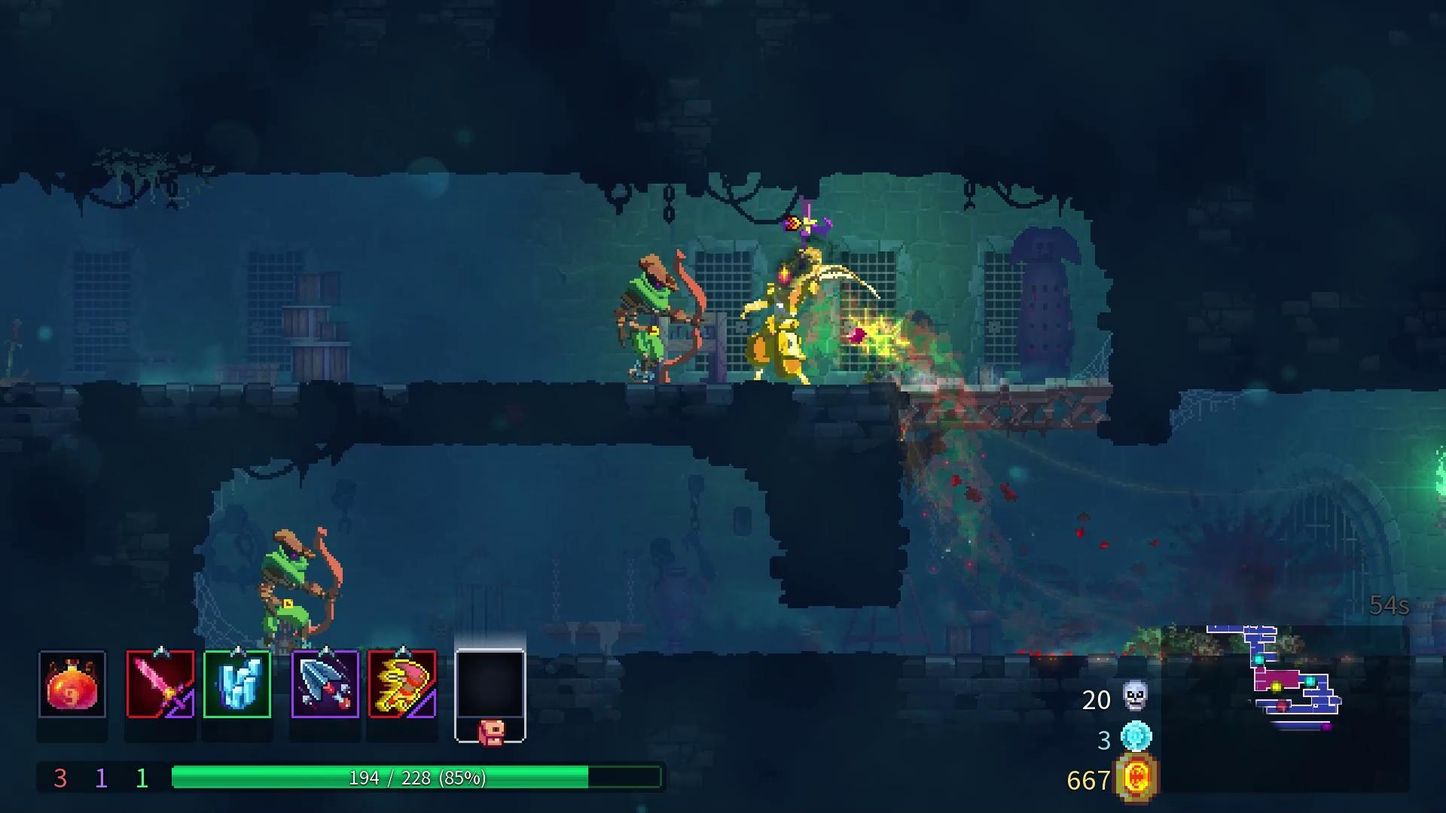gamer: (729, 247, 876, 384)
